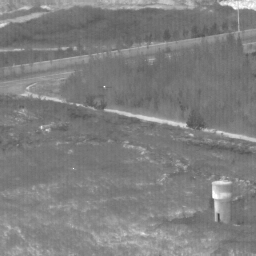aircraft: (104, 86, 106, 88)
